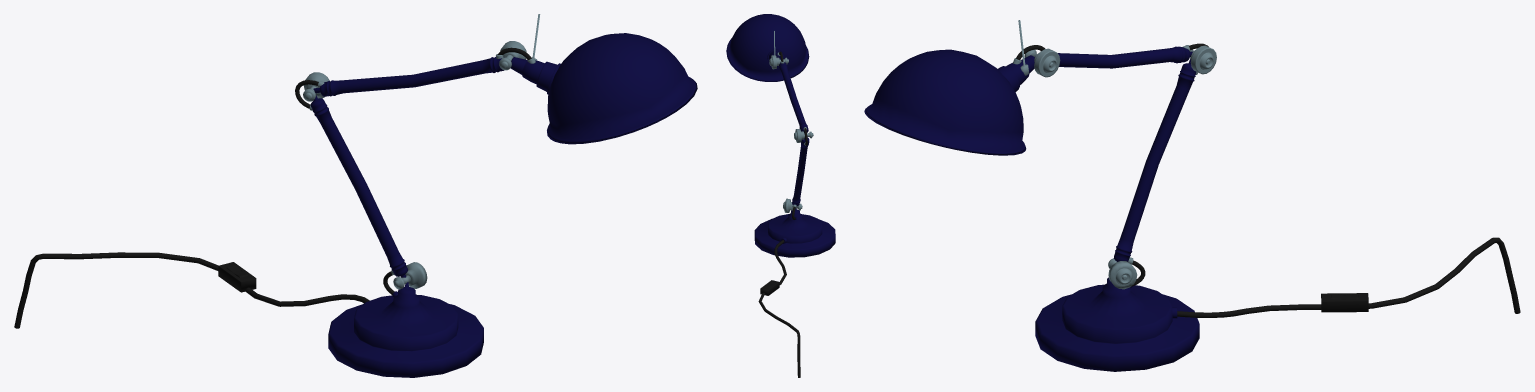
The model's file is LAMPARA.fbx.
3 views of the same model, side by side, from view 1: azimuth 30°, elevation 25°; view 2: azimuth 150°, elevation 25°; view 3: azimuth 270°, elevation 25° (orthographic). The views are drawn at different scales.
Visible parts, largest first — view 1: Cube.003; view 2: Cube.003; view 3: Cube.003.
Boxes of the visible parts, x1=… form: Cube.003: x1=14, y1=14, x2=697, y2=377; Cube.003: x1=726, y1=14, x2=835, y2=377; Cube.003: x1=864, y1=20, x2=1520, y2=371.
Size of the model in its own units: 1404 by 1394 by 1891.
